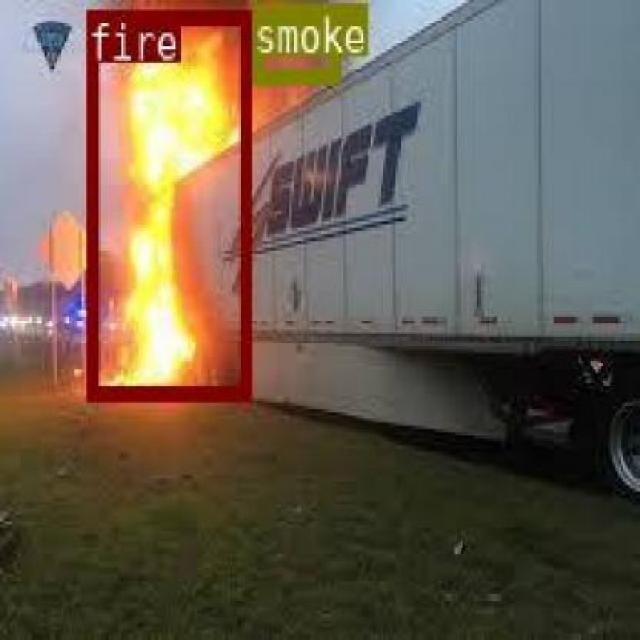Fire: (117, 18, 237, 388)
Smoke: (195, 0, 392, 112)
